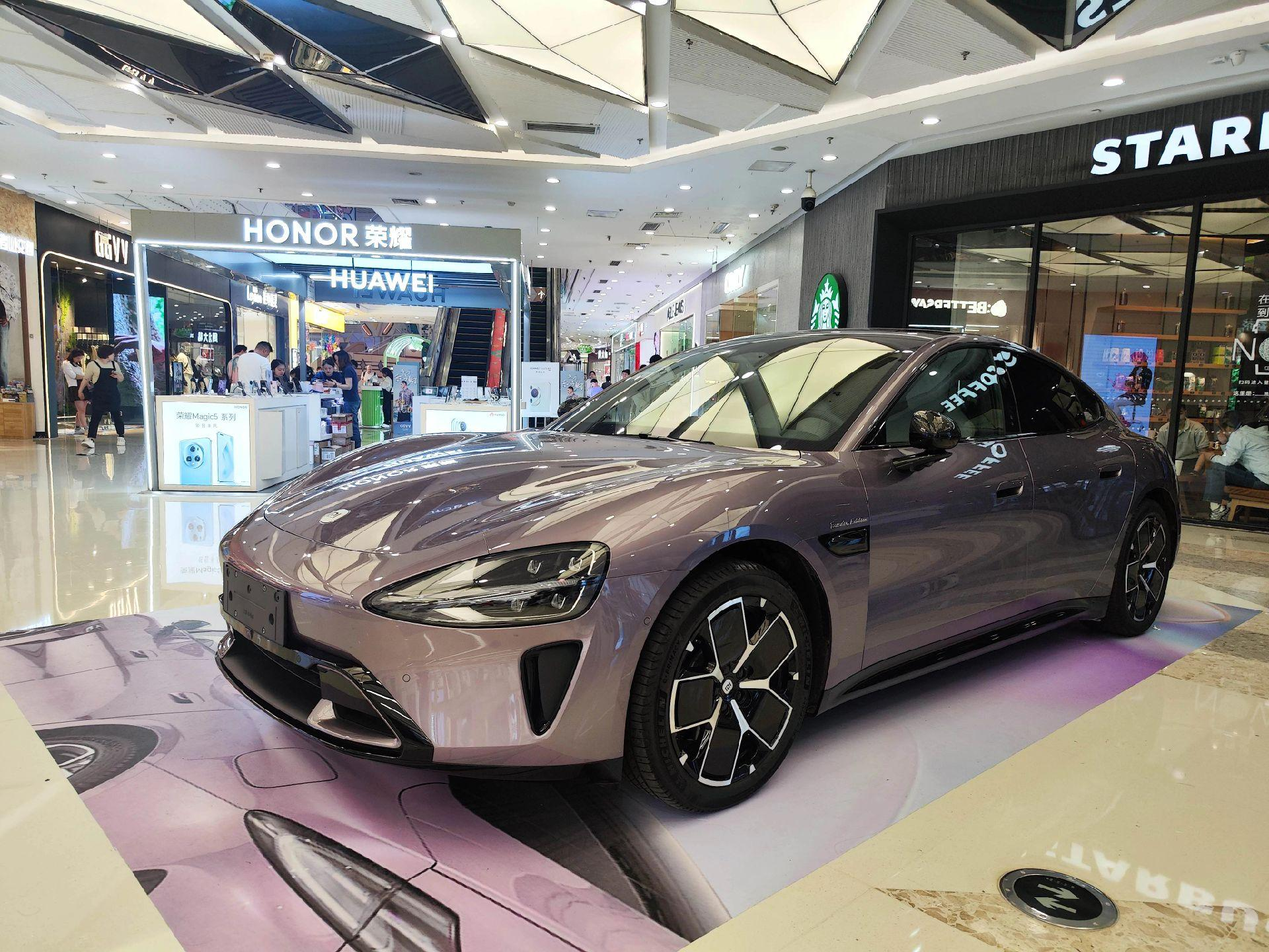su7: (215, 339, 1168, 807)
